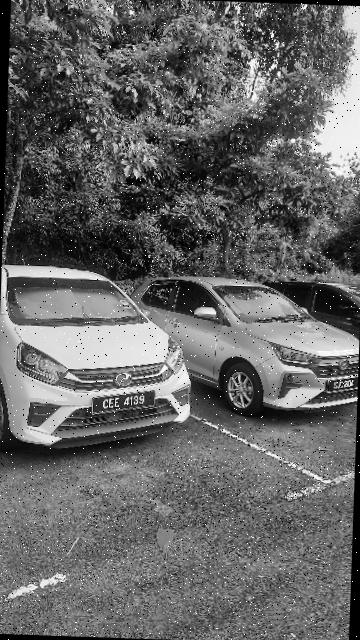License_Plate: (92, 389, 161, 418), (325, 378, 360, 397)
car: (1, 262, 202, 461), (130, 270, 360, 422)
